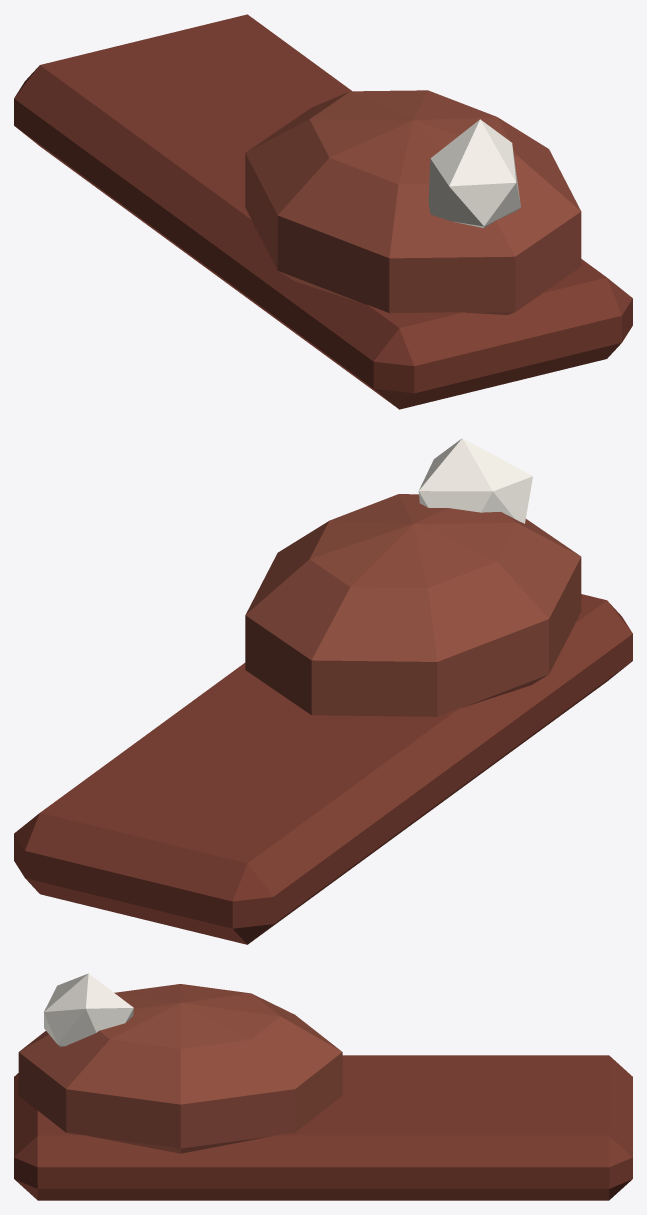
File: slipper.fbx
3 renders of one model, top to bottom at view 1: azimuth 30°, elevation 25°; view 2: azimuth 150°, elevation 25°; view 3: azimuth 270°, elevation 25°, orthographic. The views are drawn at different scales.
Parts seen in each view (by area): view 1: slipper; view 2: slipper; view 3: slipper.
Part boxes in pixels (box(x1,y1,x2,y2)): slipper: box(14, 14, 632, 409); slipper: box(14, 438, 632, 944); slipper: box(14, 973, 632, 1200).
Bounding box in the file's own units: 0.4185 × 0.3528 × 1.04.
